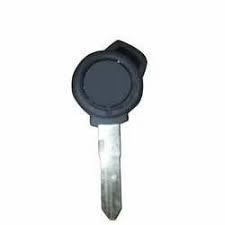key: (67, 39, 146, 219)
